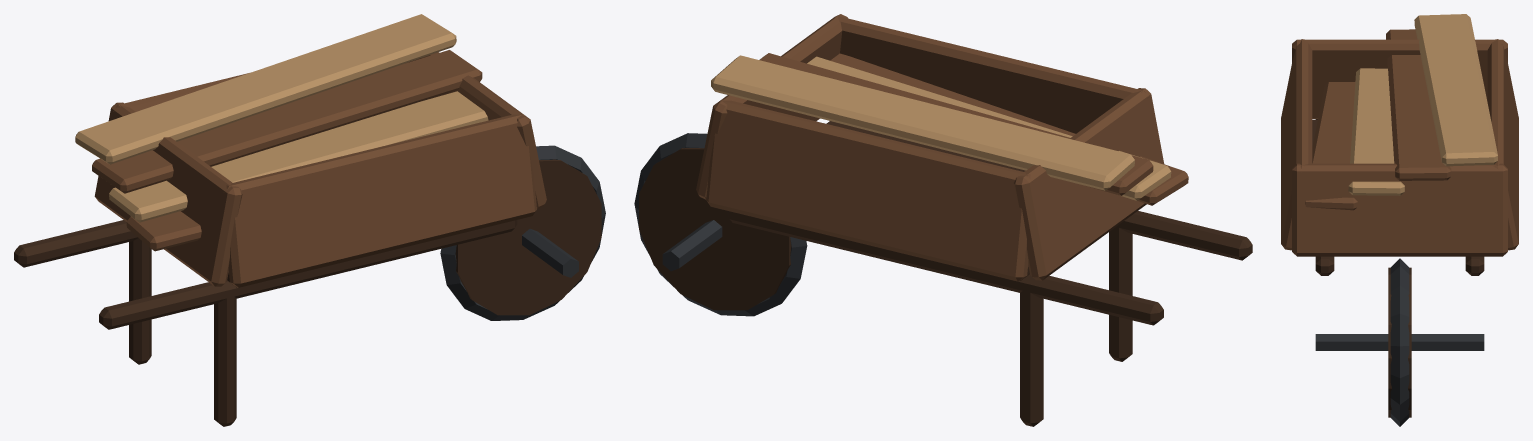
File: wheelbarrow.glb
3 renders of one model, left to right at view 1: azimuth 30°, elevation 25°; view 2: azimuth 150°, elevation 25°; view 3: azimuth 270°, elevation 25°, orthographic. The views are drawn at different scales.
Parts seen in each view (by area): view 1: Wheelbarrow; view 2: Wheelbarrow; view 3: Wheelbarrow.
Part boxes in pixels (box(x1,y1,x2,y2)): Wheelbarrow: box(14, 14, 605, 426); Wheelbarrow: box(634, 14, 1252, 426); Wheelbarrow: box(1281, 14, 1518, 426).
Bounding box in the file's own units: 1.19 × 0.5795 × 0.5065.
